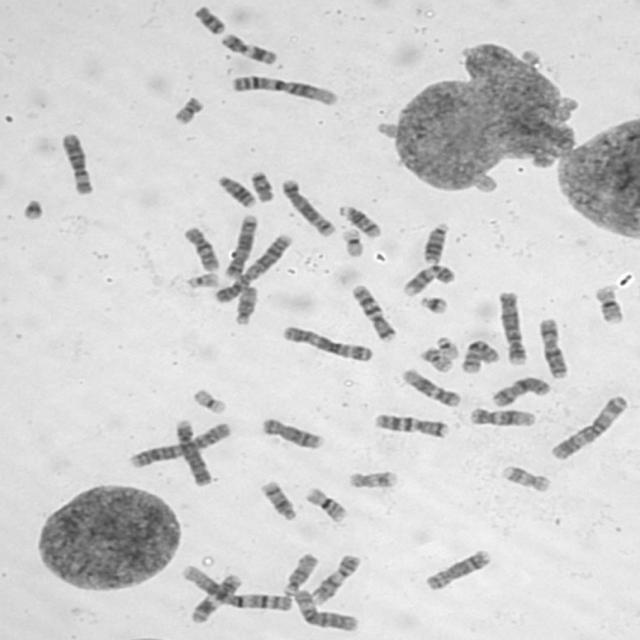A1: (178, 561, 293, 613), (228, 72, 340, 107)
A2: (211, 230, 293, 304), (129, 420, 234, 469)
A3: (545, 392, 631, 462), (278, 323, 375, 364)
B4: (171, 416, 215, 486), (494, 286, 530, 366)
B5: (277, 175, 337, 237), (222, 210, 262, 279)
C10: (180, 224, 221, 273), (458, 335, 502, 374)
C11: (186, 569, 244, 624), (215, 29, 280, 66)
C12: (399, 366, 463, 408), (467, 405, 539, 428)
C6: (290, 588, 361, 632), (56, 129, 97, 195)
C7: (348, 280, 399, 342), (370, 409, 451, 439)
C8: (423, 547, 492, 591), (258, 414, 325, 450)
C9: (306, 550, 362, 606), (399, 262, 458, 298)
D13: (214, 171, 258, 208), (420, 220, 450, 264)
D14: (334, 201, 382, 238), (258, 478, 298, 522)
D15: (279, 549, 320, 598), (231, 280, 261, 326)
E16: (302, 485, 350, 523), (590, 281, 626, 325)
E17: (498, 461, 553, 494), (344, 468, 398, 490)
E18: (189, 1, 229, 35), (247, 168, 276, 204)
F19: (188, 386, 229, 415), (338, 224, 366, 258)
F20: (168, 92, 206, 126), (417, 343, 456, 373)
G21: (17, 194, 47, 221), (415, 293, 450, 315)
G22: (432, 333, 462, 361), (183, 270, 220, 290)
X: (536, 314, 571, 379), (488, 373, 553, 408)
